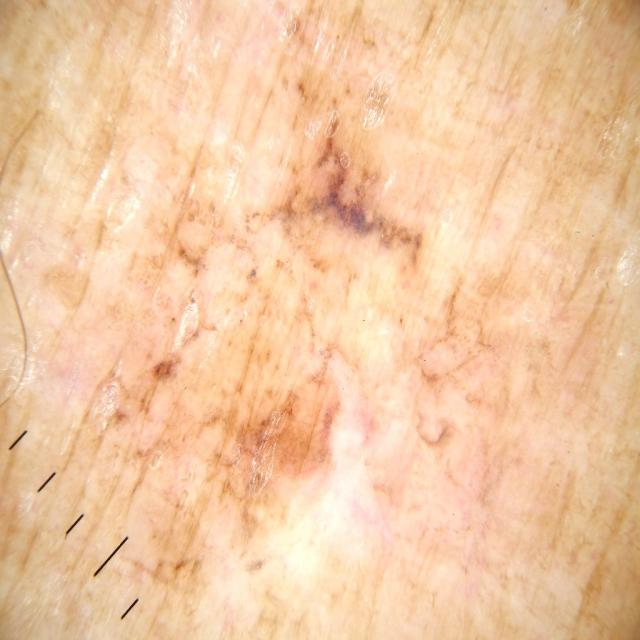Skin-Cancer Melanoma: (2, 6, 640, 640)
